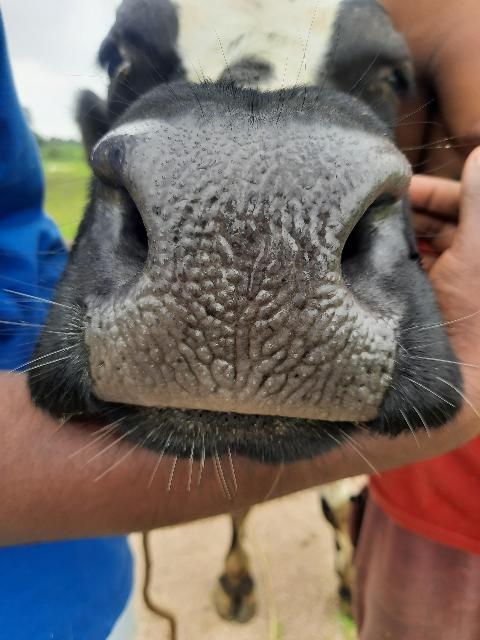Muzzle: (122, 132, 374, 414)
